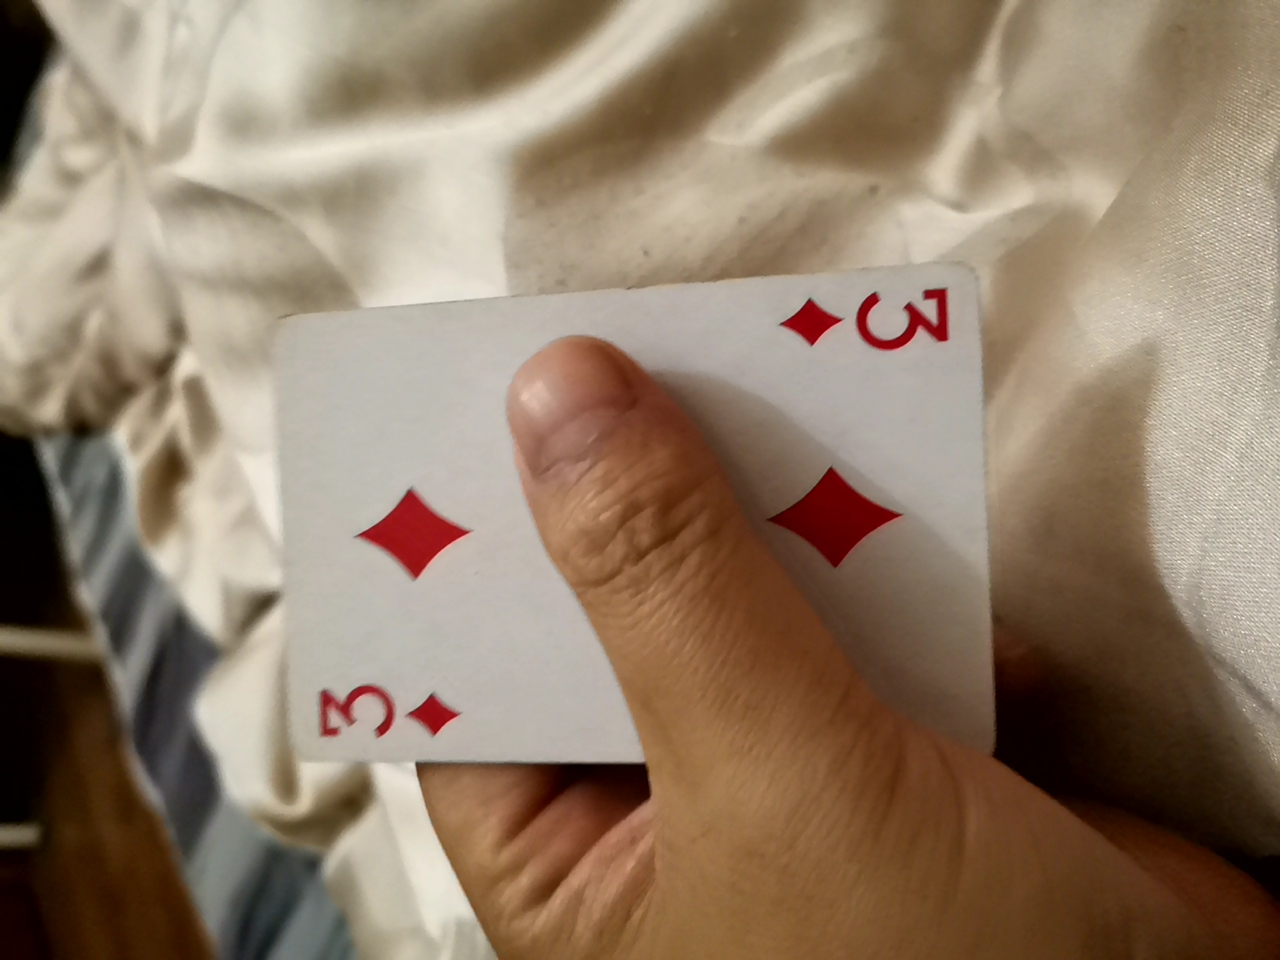fk 3: (277, 244, 994, 775)
